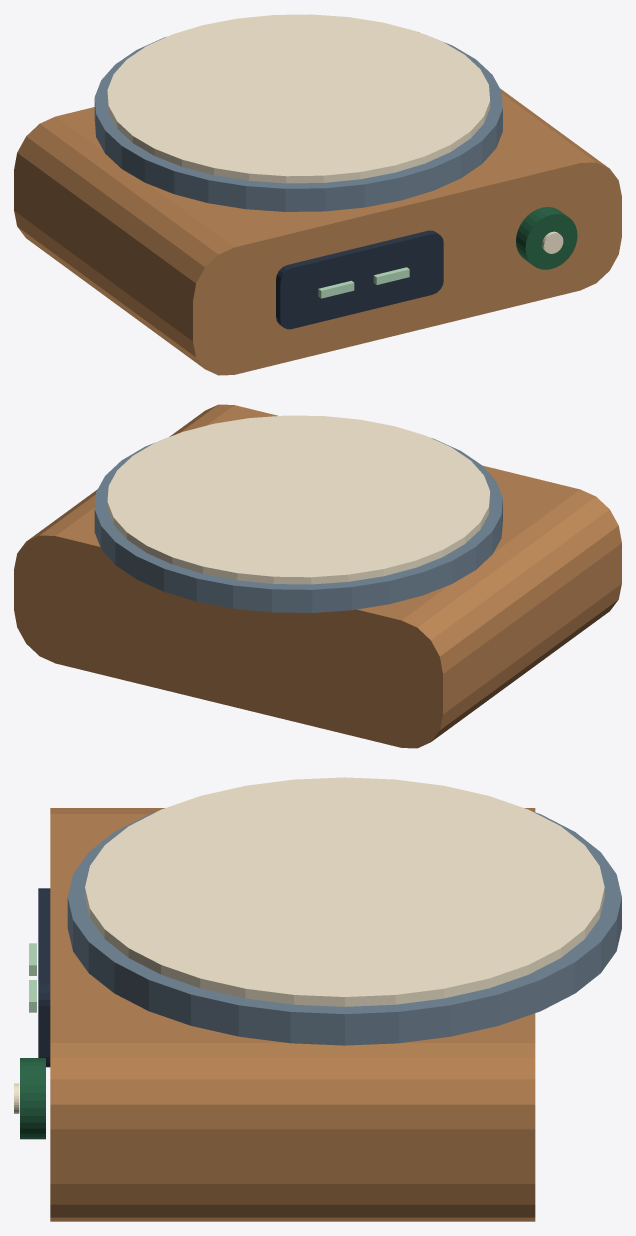
Rendered from scale.glb.
3 renders of one model, top to bottom at view 1: azimuth 30°, elevation 25°; view 2: azimuth 150°, elevation 25°; view 3: azimuth 270°, elevation 25°, orthographic. The views are drawn at different scales.
Visible parts, largest first — view 1: base, plate face, weighing plate, screen, tare key; view 2: base, plate face, weighing plate; view 3: base, plate face, weighing plate, screen, tare key.
Part boxes in pixels (left/top/right/bottom): base: left=14, top=32, right=621, bottom=375; plate face: left=107, top=14, right=490, bottom=183; weighing plate: left=94, top=35, right=502, bottom=211; screen: left=276, top=230, right=443, bottom=329; tare key: left=516, top=207, right=577, bottom=269; base: left=14, top=404, right=621, bottom=748; plate face: left=107, top=415, right=490, bottom=584; weighing plate: left=94, top=438, right=502, bottom=612; base: left=50, top=808, right=535, bottom=1221; plate face: left=85, top=777, right=604, bottom=1006; weighing plate: left=67, top=811, right=621, bottom=1045; screen: left=38, top=888, right=50, bottom=1067; tare key: left=20, top=1058, right=45, bottom=1139.
Size of the model in its own units: 1.55 by 0.545 by 1.4.
